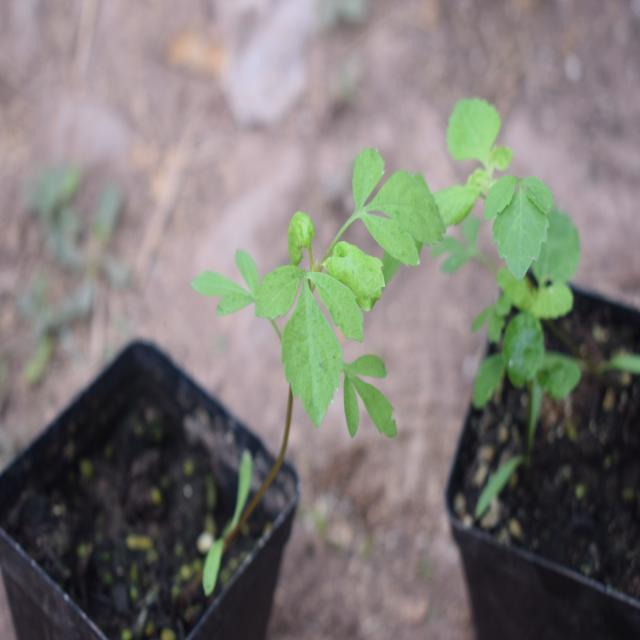Bidens pilosa: (223, 160, 435, 458)
